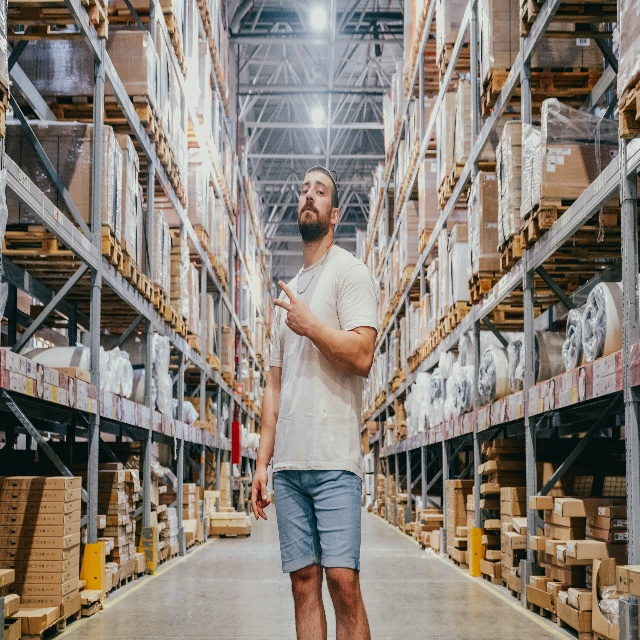Sin_guantes: (273, 279, 311, 337), (251, 463, 271, 521)
